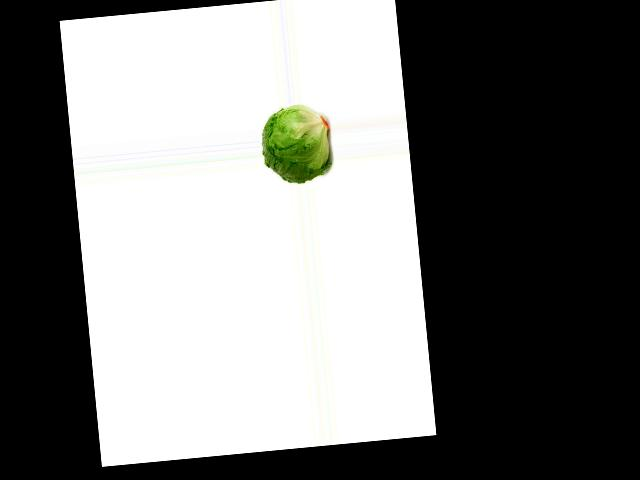lettuce: (258, 107, 332, 186)
